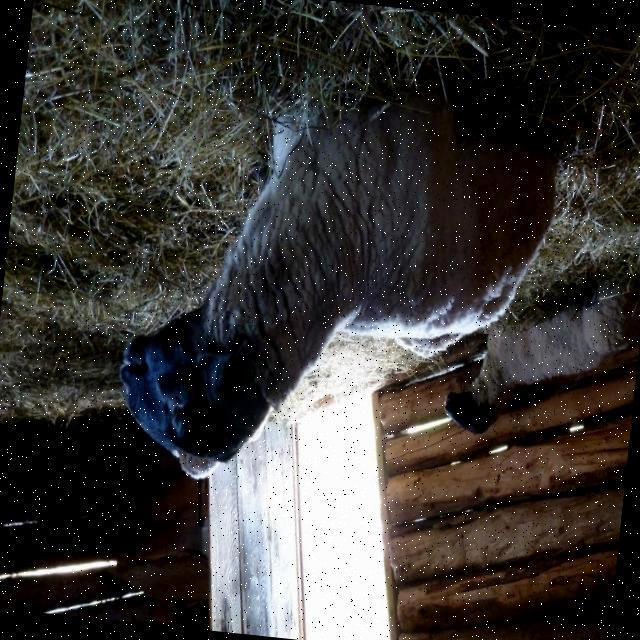sheep: (117, 93, 552, 466), (442, 278, 640, 431)
